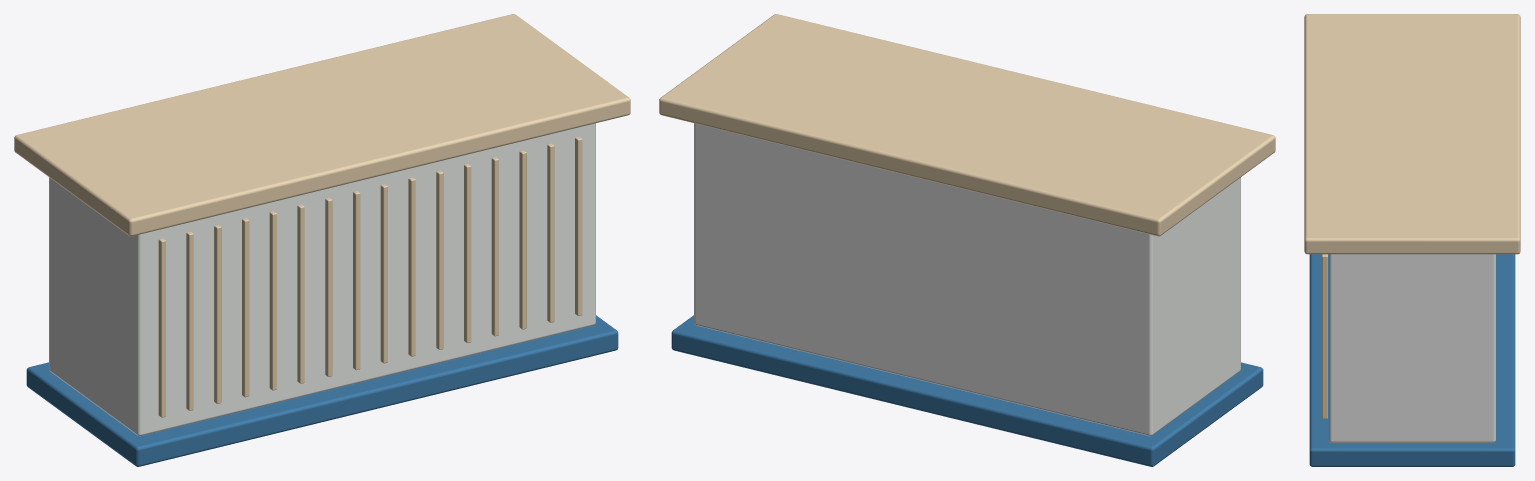
The model's file is squash-club-and-racket-workshop-reception-counter-1ae1a681__29773.glb.
The picture shows the model from 3 angles, left to right: view 1: azimuth 30°, elevation 25°; view 2: azimuth 150°, elevation 25°; view 3: azimuth 270°, elevation 25°; orthographic projection. The views are drawn at different scales.
Visible parts, largest first — view 1: reception-counter; view 2: reception-counter; view 3: reception-counter.
Part boxes in pixels (x1=…): reception-counter: x1=14, y1=14, x2=630, y2=466; reception-counter: x1=659, y1=14, x2=1275, y2=466; reception-counter: x1=1304, y1=14, x2=1520, y2=466.
Size of the model in its own units: 2.08 by 1 by 0.84.
